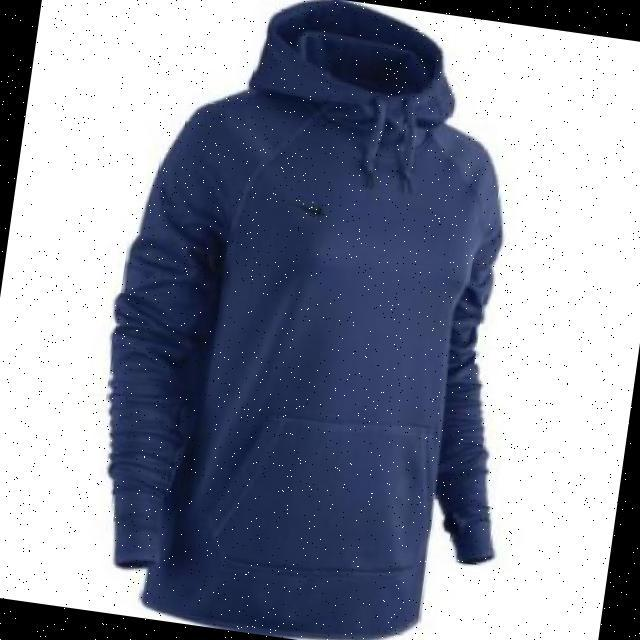Nike: (295, 198, 328, 216)
